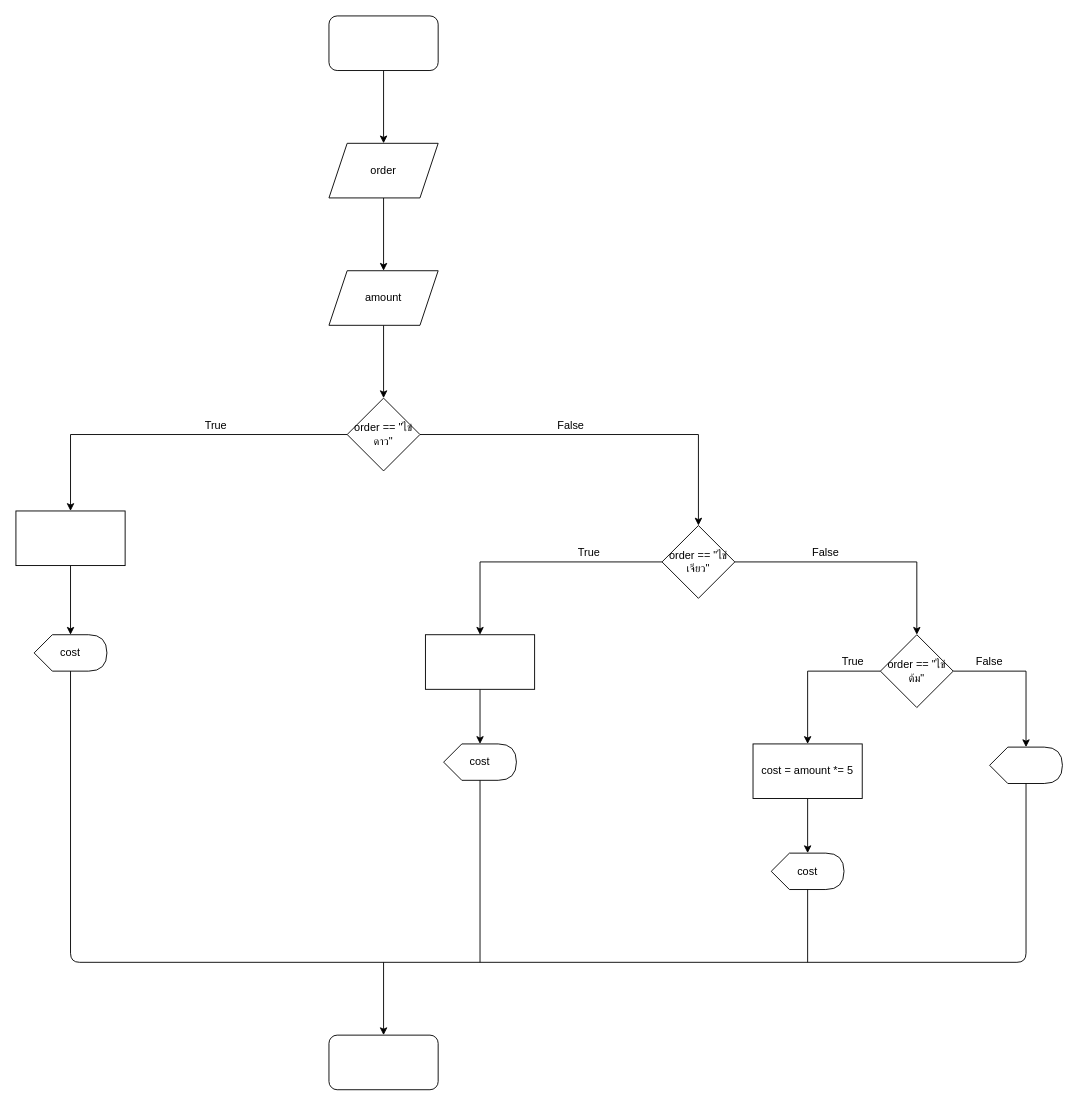
This 1078x1106 diagram has some shape labels left out. Here are the shapes that lost their labels. From the top down, the box of each, then its label:
(328, 15, 438, 71): start
(15, 510, 125, 566): cost = amount *= 7
(425, 634, 535, 689): cost = amount *= 10
(989, 746, 1062, 784): "ร้านเรามี ..."
(328, 1034, 438, 1090): End
